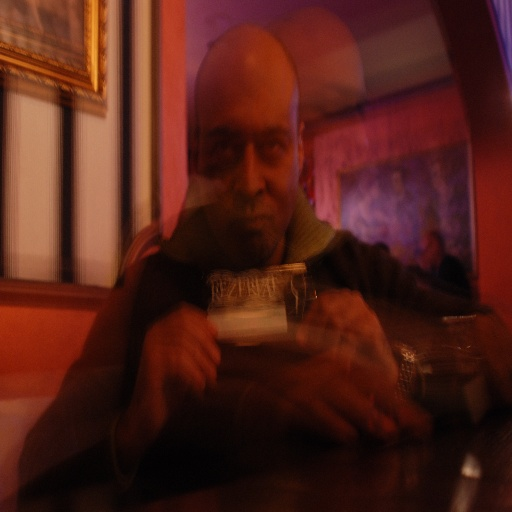hand: (122, 290, 226, 437), (291, 291, 401, 397)
